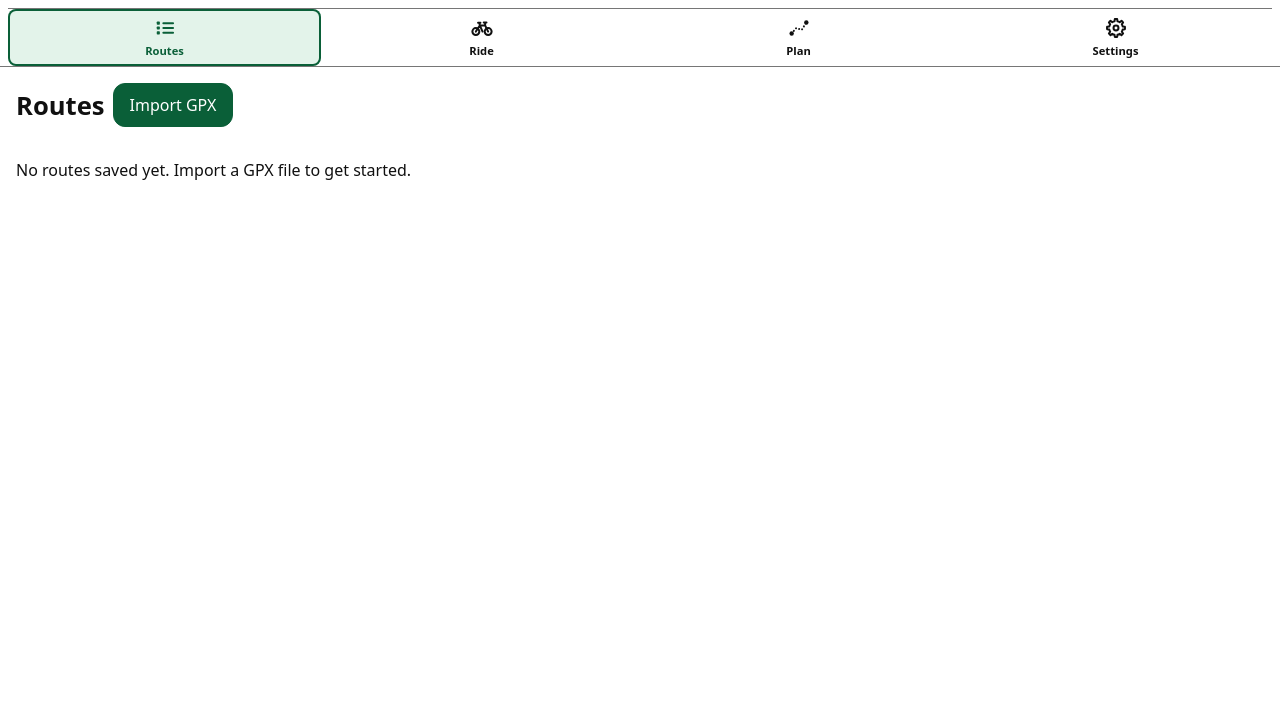
App — immersive Riding shell › active free roam omits MainNavigation from the DOM and renders the immersive header instead
Click the button "Ride".
click(482, 38)  # box [325,9,638,66]
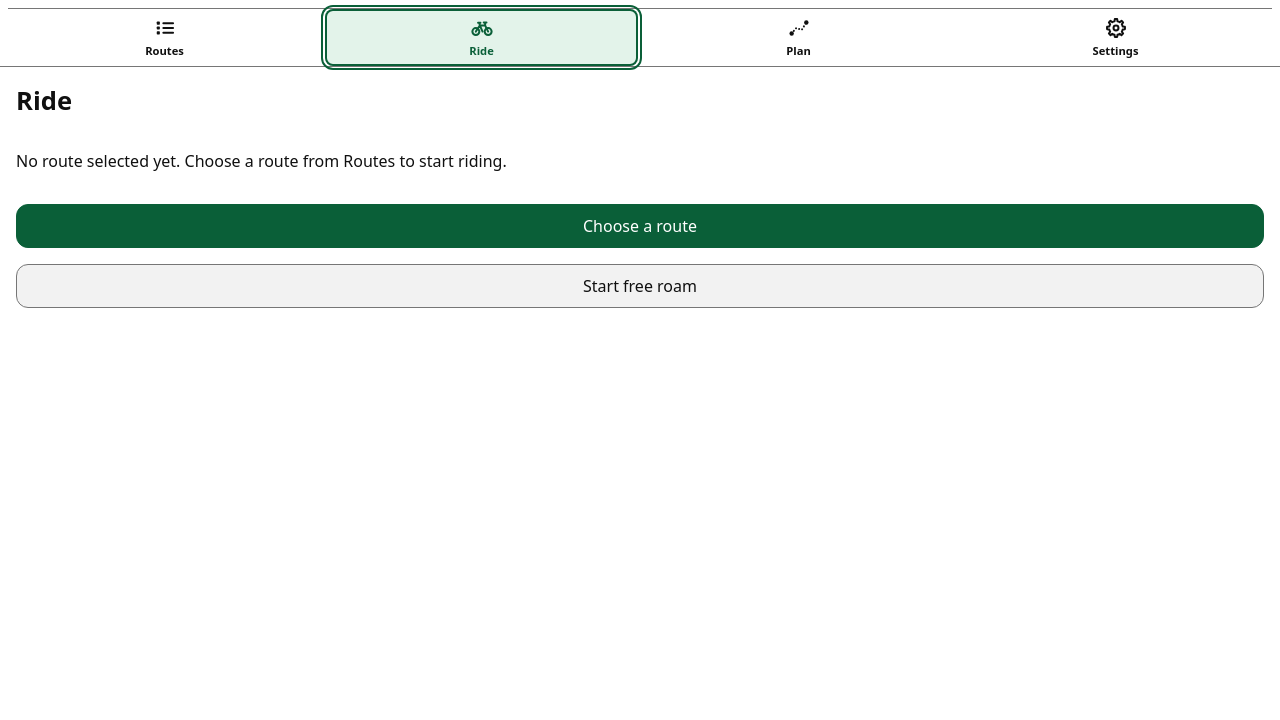
Click the button "Start free roam".
click(640, 286)  # box [16,264,1264,308]
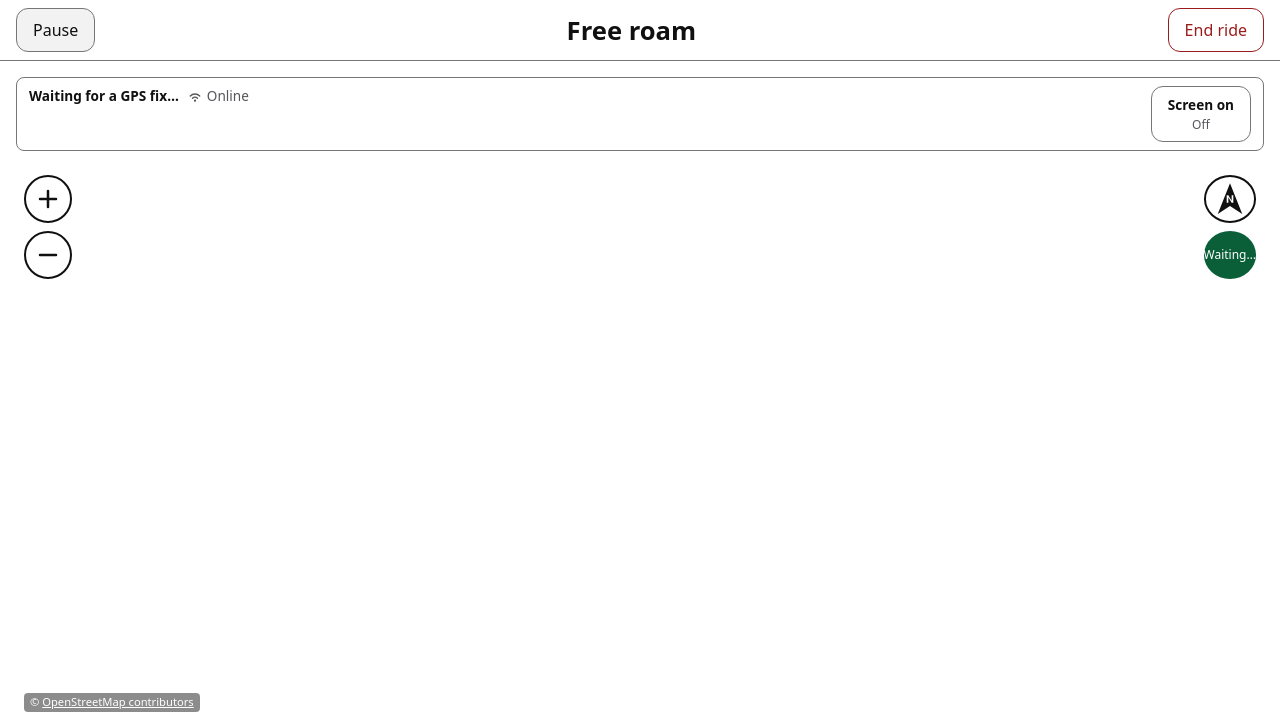
Expected: the navigation bar "Main" is gone
Expected: the button "Pause" is shown, [16,8,95,52]
Expected: the heading "Free roam" is shown, [567,12,696,48]
